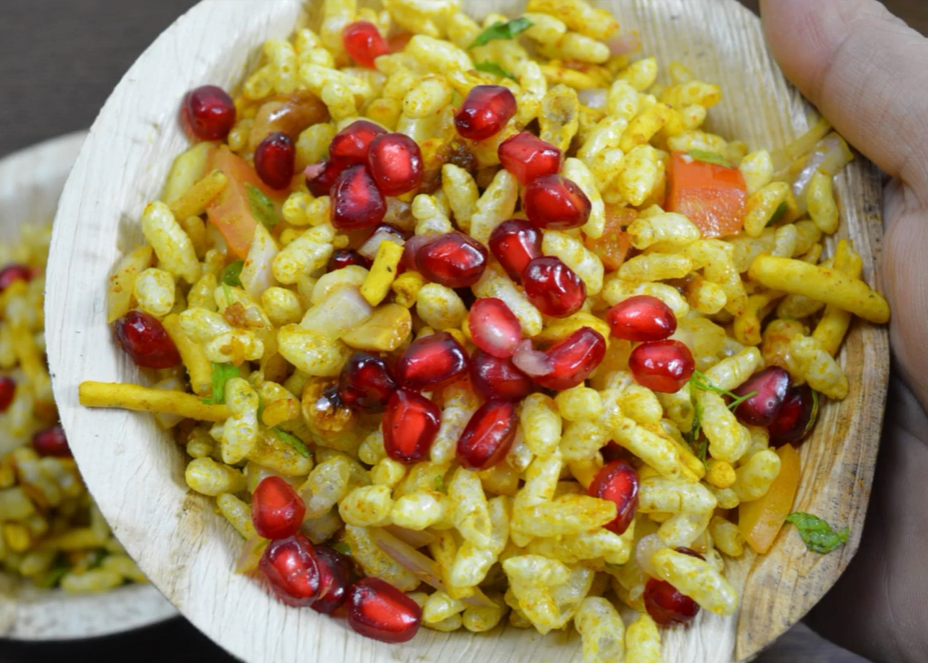chatpate: (147, 63, 819, 624)
